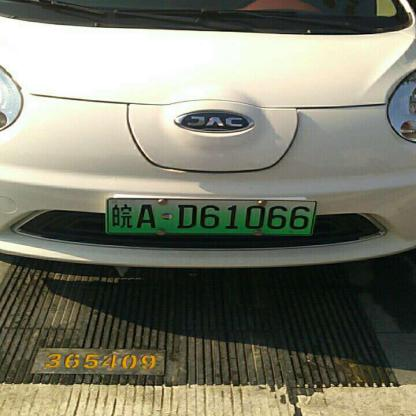lp: (107, 198, 314, 232)
